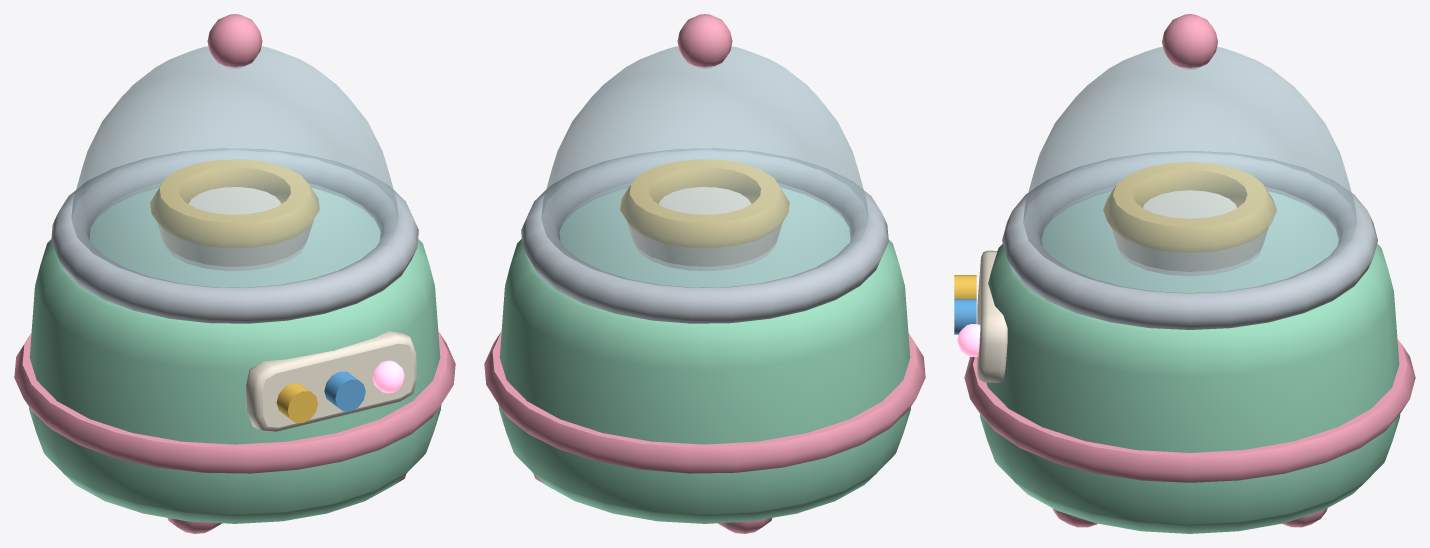
Rendered from prop_incubator.glb.
3 views of the same model, side by side, from view 1: azimuth 30°, elevation 25°; view 2: azimuth 150°, elevation 25°; view 3: azimuth 270°, elevation 25° (orthographic).
Visible parts, largest first — view 1: prop_incubator; view 2: prop_incubator; view 3: prop_incubator.
Boxes of the visible parts, left/top/right/bottom form: prop_incubator: left=14, top=14, right=455, bottom=533; prop_incubator: left=484, top=14, right=925, bottom=533; prop_incubator: left=954, top=14, right=1415, bottom=533.
Bounding box in the file's own units: 0.804 × 0.908 × 0.822.
